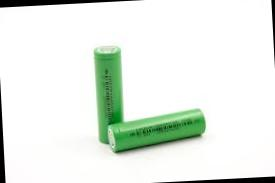battery: (100, 100, 209, 159), (80, 37, 130, 156)
